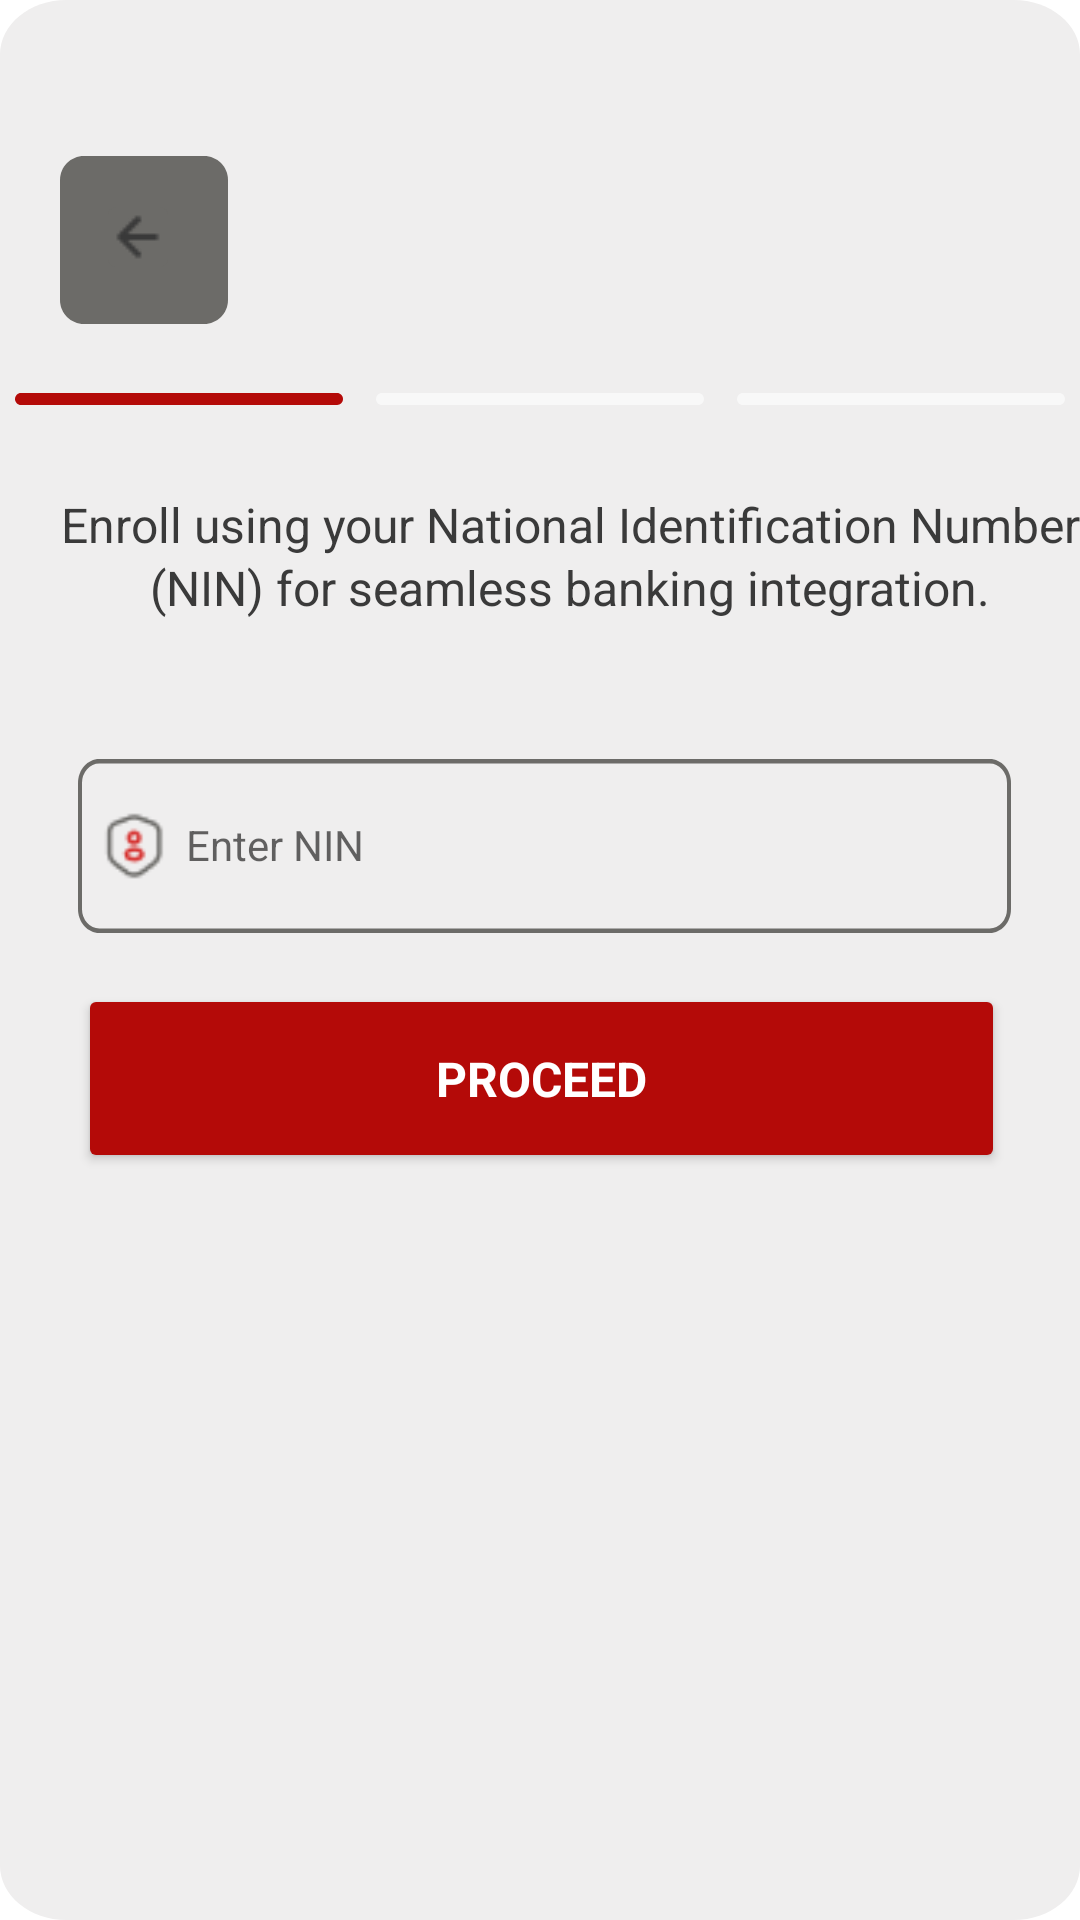

Named icons in this screenshot (1080w x 1920h) and their bounding boxes, BBox(x1, y1, x2, y2):
Back icon: BBox(118, 217, 158, 257)
security user: BBox(106, 814, 163, 878)
